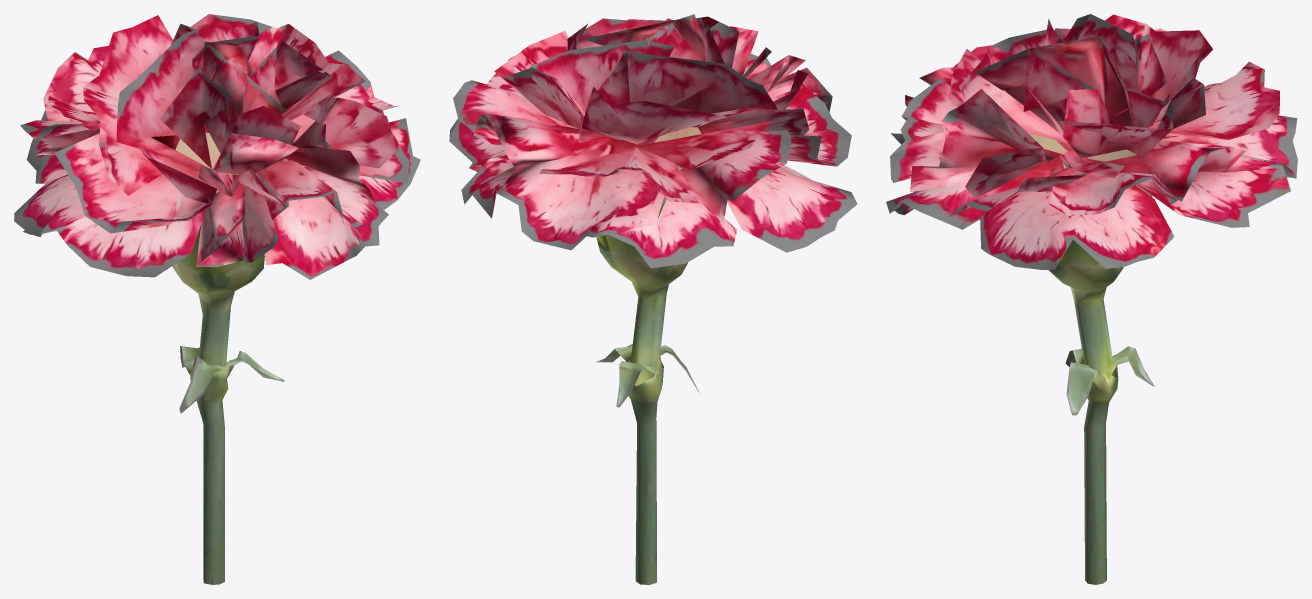
The model's file is carnation.glb.
The picture shows the model from 3 angles, left to right: view 1: azimuth 30°, elevation 25°; view 2: azimuth 150°, elevation 25°; view 3: azimuth 270°, elevation 25°; orthographic projection.
Visible parts, largest first — view 1: geometry_0; view 2: geometry_0; view 3: geometry_0.
Boxes of the visible parts, x1,y1,x2,y2 form: geometry_0: (14,14,420,584); geometry_0: (449,14,857,584); geometry_0: (886,14,1297,584).
Size of the model in its own units: 0.6987 by 0.9502 by 0.6519.
Materials: 1 (1 with a texture image).
